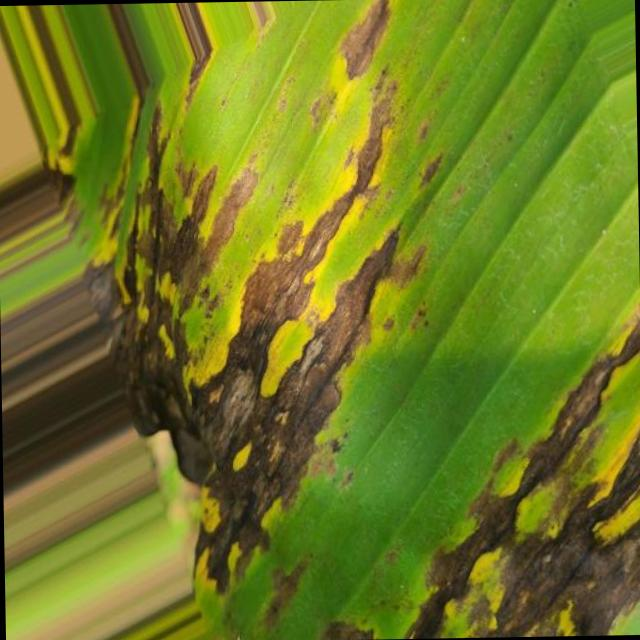Banana_Black_Sigatoka: (82, 118, 400, 498), (469, 337, 640, 637)
